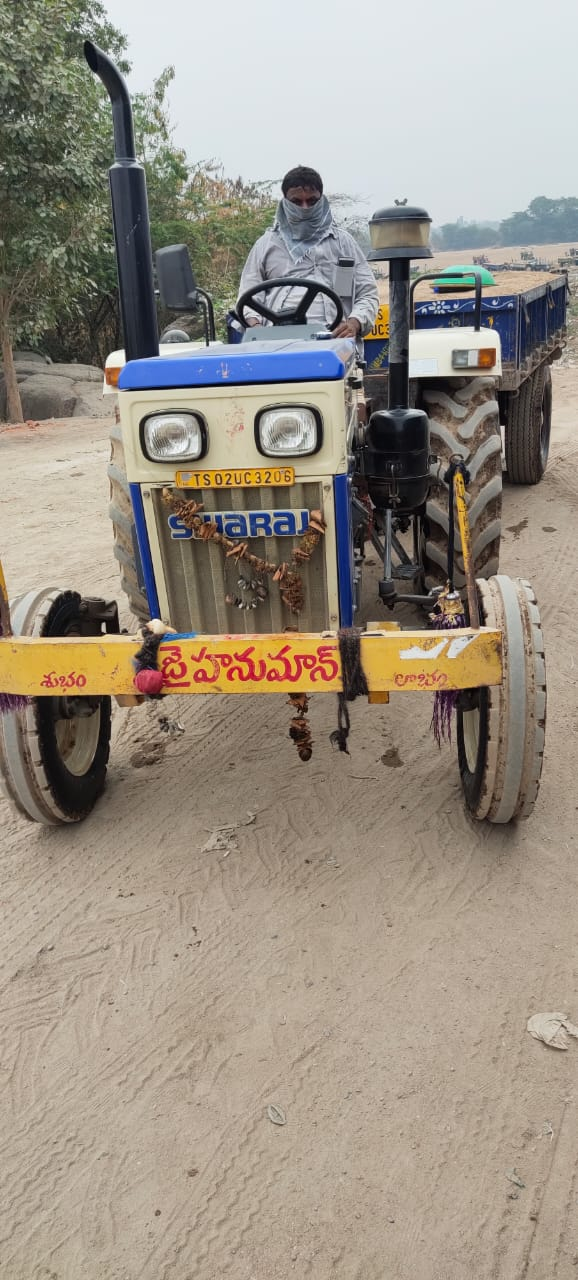num_plate: (170, 461, 298, 490)
